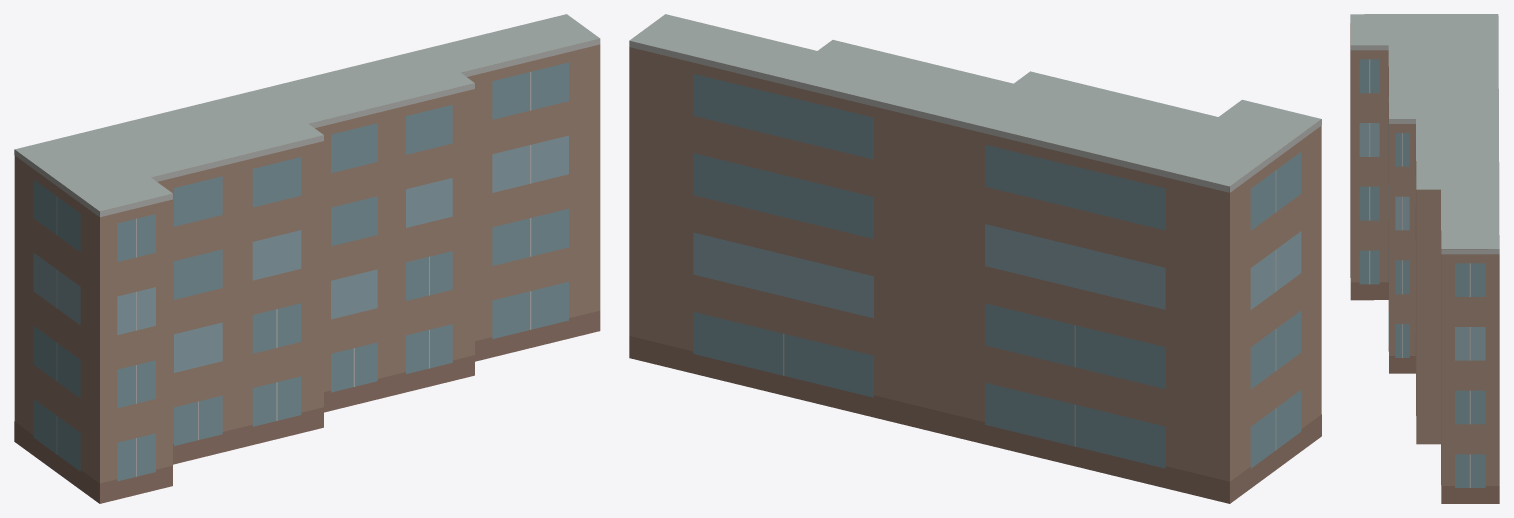
The model's file is survey-upis-32728369.glb.
The picture shows the model from 3 angles, left to right: view 1: azimuth 30°, elevation 25°; view 2: azimuth 150°, elevation 25°; view 3: azimuth 270°, elevation 25°; orthographic projection. The views are drawn at different scales.
Visible parts, largest first — view 1: survey-upis-32728369.tmp; view 2: survey-upis-32728369.tmp; view 3: survey-upis-32728369.tmp.
Boxes of the visible parts, left/top/right/bottom form: survey-upis-32728369.tmp: left=14, top=14, right=600, bottom=503; survey-upis-32728369.tmp: left=629, top=14, right=1321, bottom=503; survey-upis-32728369.tmp: left=1350, top=14, right=1499, bottom=503.
Size of the model in its own units: 24.15 by 12.2 by 6.48.
